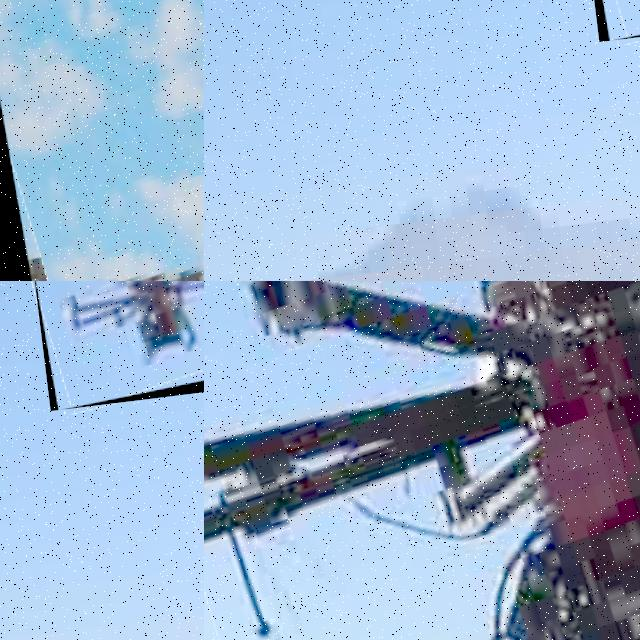0: (204, 281, 640, 640), (31, 281, 204, 410)
drone: (0, 0, 204, 281)
